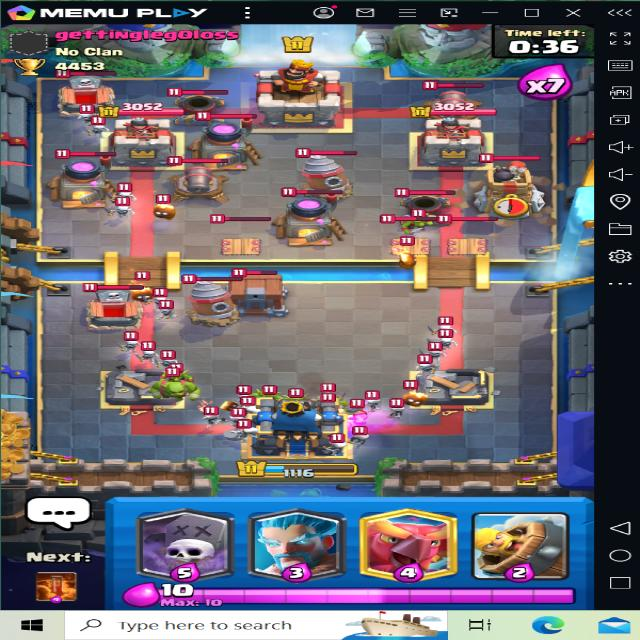Bombtower: (473, 148, 547, 223)
Cannon: (417, 78, 485, 128), (164, 154, 234, 200)
Firespirit: (144, 193, 179, 224), (392, 243, 428, 267), (124, 282, 163, 304), (393, 388, 429, 411)
Furnace: (269, 186, 356, 244), (45, 150, 116, 202)
Goblin: (163, 366, 199, 388), (414, 371, 449, 393), (386, 394, 414, 414)
Goblinbrawler: (152, 368, 210, 406)
Goblincage: (218, 262, 290, 316)
Goblindrill: (281, 144, 363, 198), (171, 272, 243, 327)
Mortar: (390, 184, 458, 228), (166, 84, 230, 126)
Skeleton: (106, 197, 136, 221), (114, 327, 152, 344), (411, 352, 443, 372), (156, 303, 185, 323), (427, 316, 459, 334), (422, 342, 455, 358), (352, 426, 381, 444), (222, 406, 248, 426), (340, 433, 373, 448), (231, 424, 253, 442)
Teslahidden: (209, 212, 277, 256), (383, 217, 447, 262), (438, 220, 490, 264)
Tombstone: (76, 281, 152, 327), (56, 70, 128, 117)
